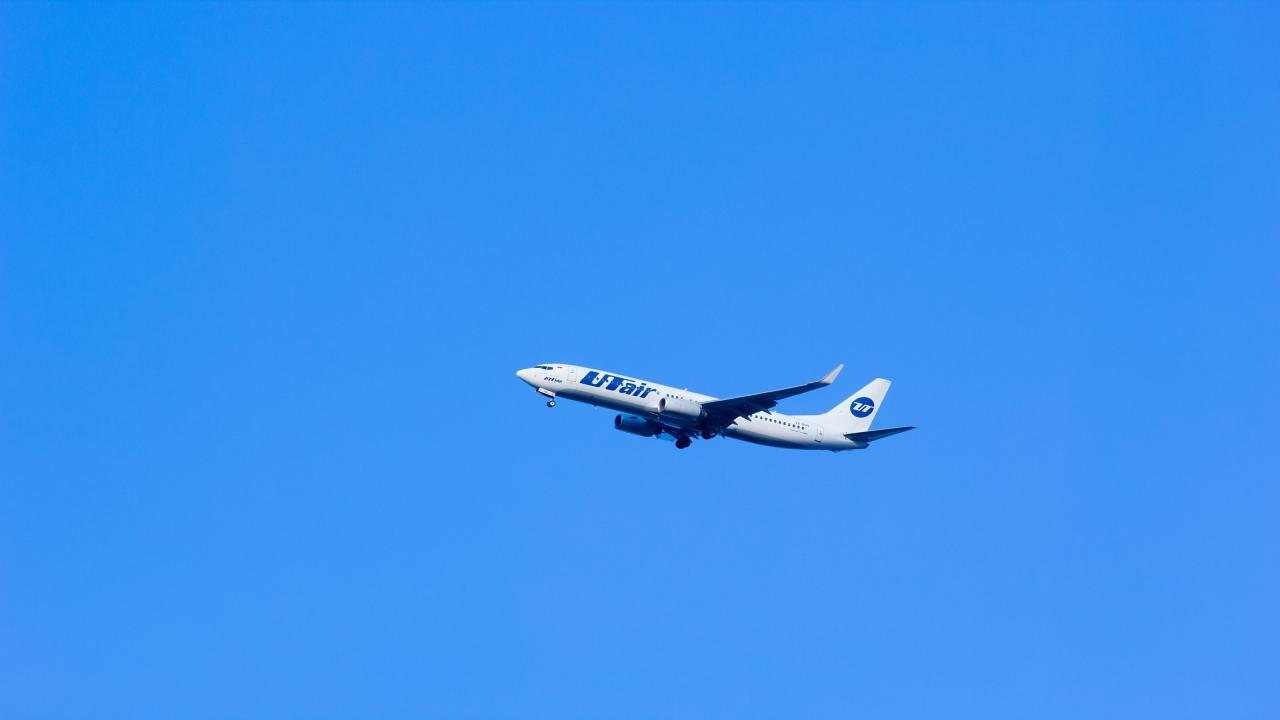Airplane: (500, 346, 925, 464)
